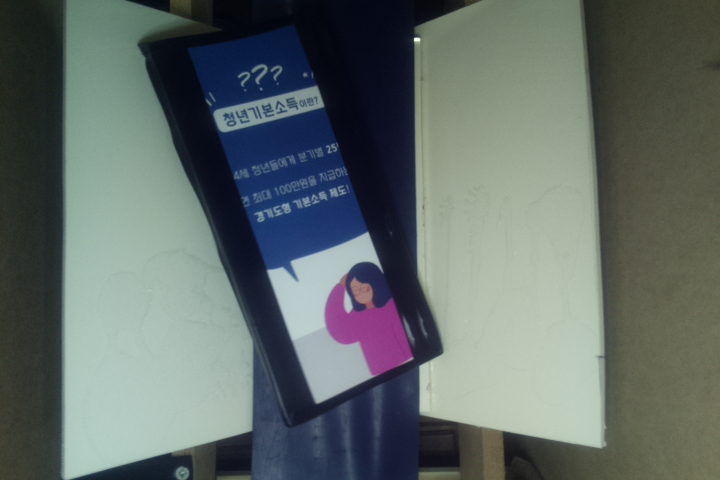book: (136, 19, 443, 427)
